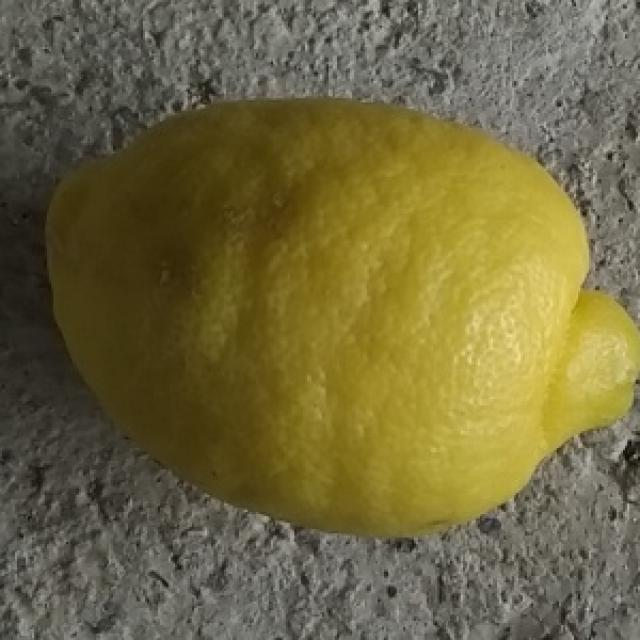Ripe: (38, 89, 640, 542)
